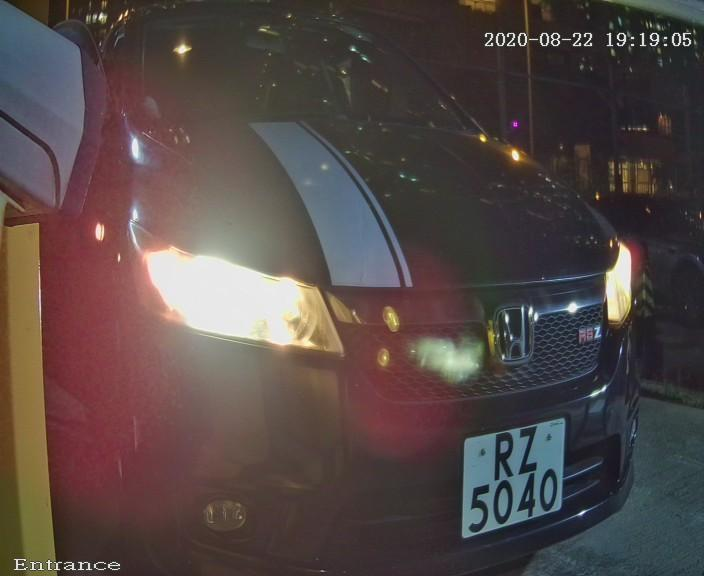Car: (13, 1, 683, 576)
License Plate: (450, 402, 576, 543)
